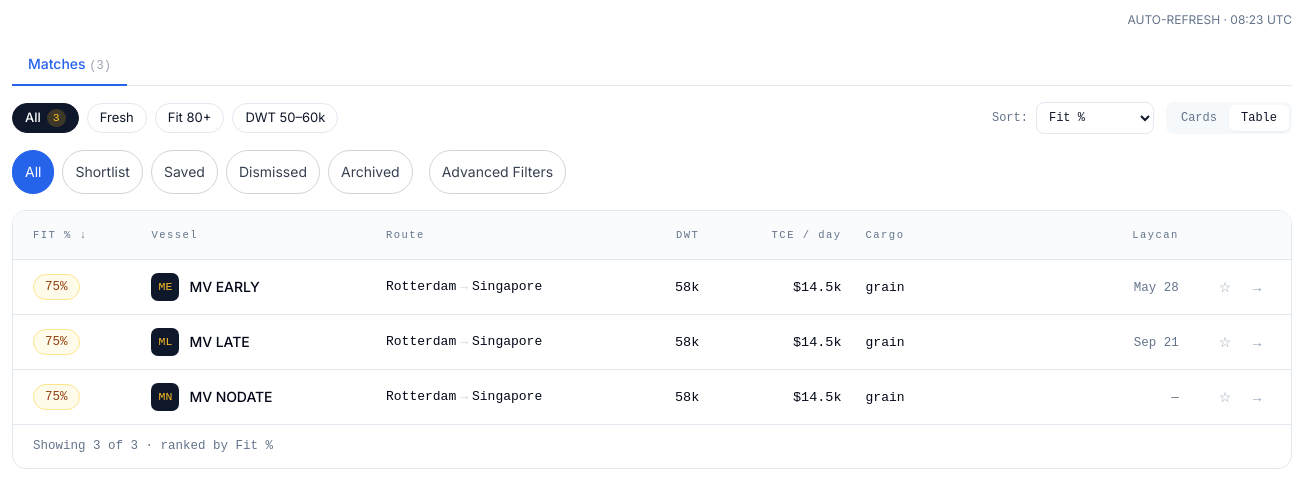
Test: sorting wiring — dropdown + indicator provenance (behavioral) › dropdown 'laycan' → earliest first, null last; footer says ranked by Laycan
Select "Laycan" in the dropdown showing "Fit %" at [1095, 118], box top-left (1036, 102), bottom-right (1154, 134)
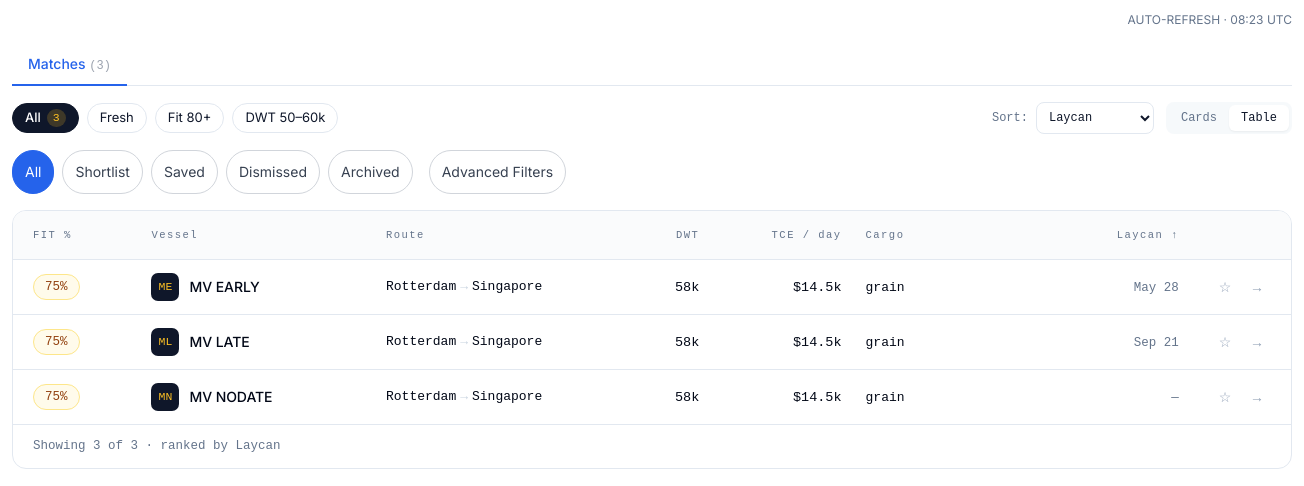
Expected: the text "ranked by Laycan" is shown, top-left (33, 437), bottom-right (281, 456)
